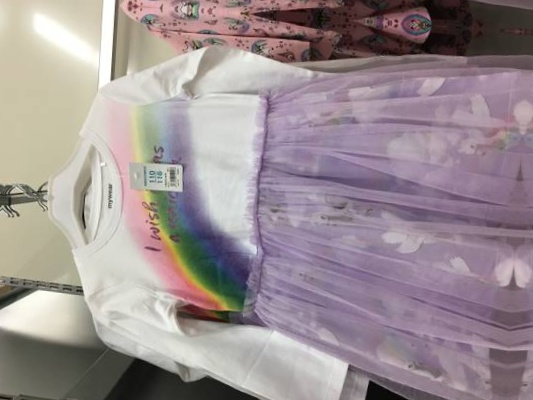Dress: (0, 31, 527, 400), (505, 64, 533, 400), (0, 0, 10, 386), (532, 0, 533, 33)
